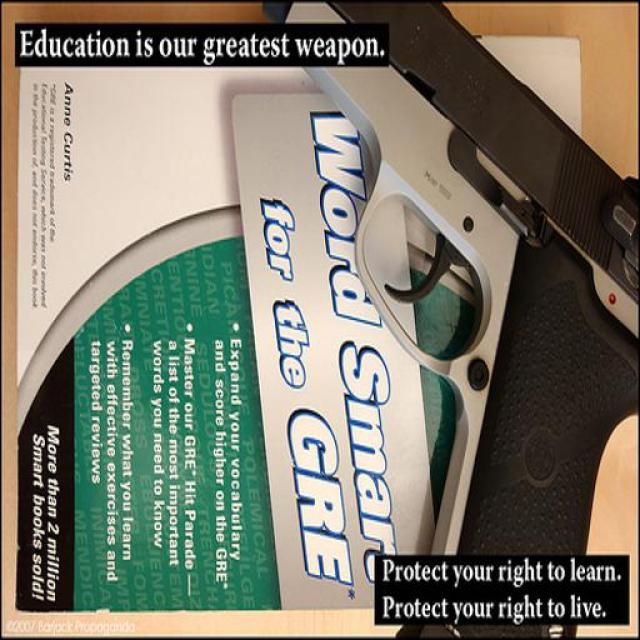pistol: (260, 1, 635, 635)
